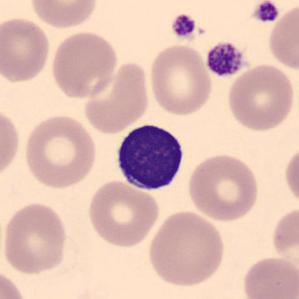Lymphocyte: (111, 119, 190, 194)
Platelets: (203, 40, 246, 78), (169, 12, 198, 40), (251, 0, 280, 24)
RBC: (145, 208, 227, 288), (22, 112, 99, 190), (185, 152, 262, 223), (85, 178, 161, 249), (224, 62, 297, 134), (82, 59, 152, 134), (1, 200, 69, 276), (49, 28, 120, 100), (147, 43, 214, 117), (0, 15, 52, 84), (239, 254, 298, 299), (266, 1, 299, 72), (269, 203, 299, 279), (27, 0, 100, 29), (0, 105, 22, 181), (283, 143, 299, 210), (0, 267, 30, 299)
